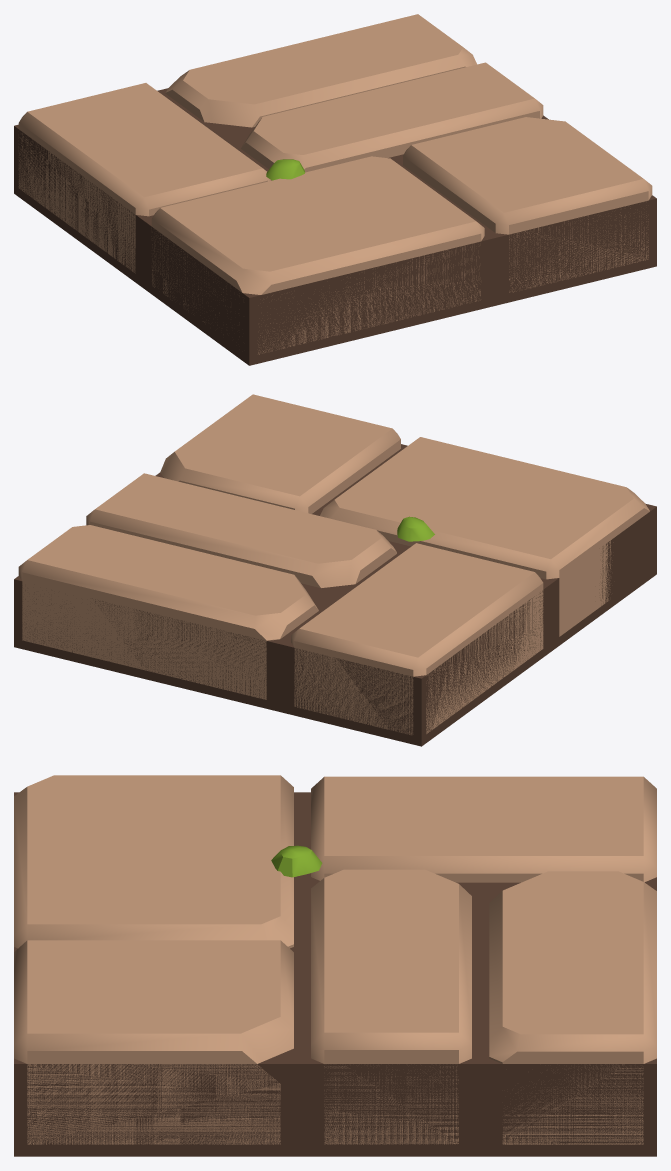
The model's file is floor_solid__upper.glb.
3 renders of one model, top to bottom at view 1: azimuth 30°, elevation 25°; view 2: azimuth 150°, elevation 25°; view 3: azimuth 270°, elevation 25°, orthographic. The views are drawn at different scales.
Visible parts, largest first — view 1: floor_solid; view 2: floor_solid; view 3: floor_solid.
Boxes of the visible parts, x1=… form: floor_solid: x1=14, y1=14, x2=656, y2=365; floor_solid: x1=14, y1=394, x2=656, y2=746; floor_solid: x1=14, y1=775, x2=656, y2=1156.
Bounding box in the file's own units: 0.974 × 0.2194 × 0.974.
